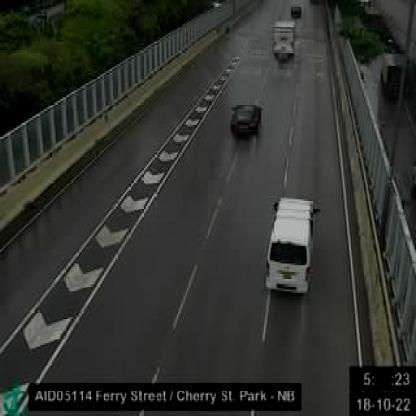Car: (264, 193, 316, 297), (230, 103, 263, 142)
Truck: (272, 20, 297, 65)
